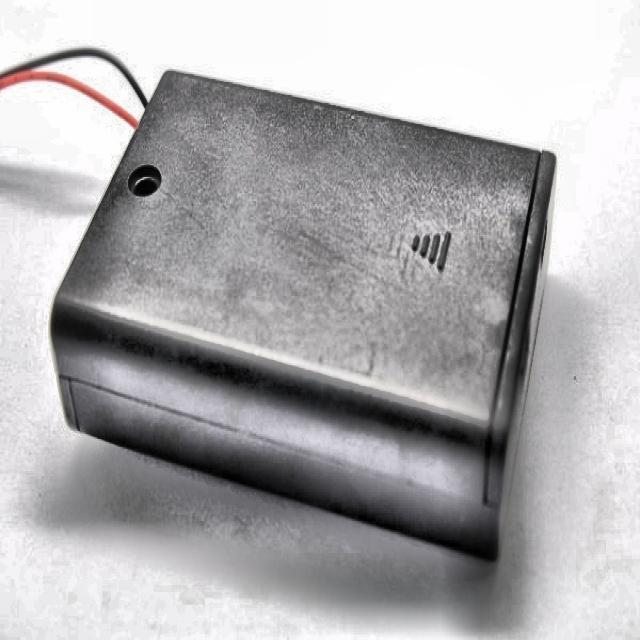battery: (51, 72, 555, 558)
